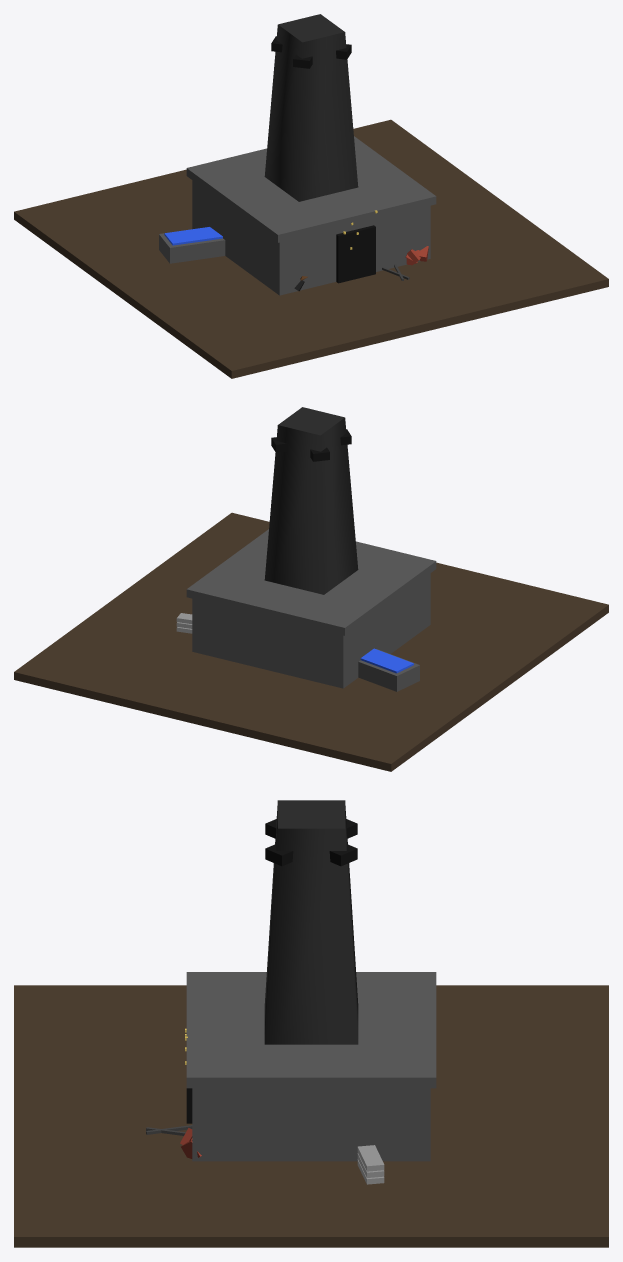
The model's file is iron_smelter.glb.
3 renders of one model, top to bottom at view 1: azimuth 30°, elevation 25°; view 2: azimuth 150°, elevation 25°; view 3: azimuth 270°, elevation 25°, orthographic. The views are drawn at different scales.
Parts seen in each view (by area): view 1: Ground, Chimney, Roof, BuildingBase, FurnaceOpening, TroughBase, Water; view 2: Ground, Chimney, BuildingBase, Roof, TroughBase, Water; view 3: Ground, Roof, Chimney, BuildingBase, Vent1, Vent2.
Part boxes in pixels (<box>): Ground: <box>14,119,608,378</box>; Chimney: <box>264,14,358,201</box>; Roof: <box>186,136,436,242</box>; BuildingBase: <box>192,180,430,295</box>; FurnaceOpening: <box>336,225,375,283</box>; TroughBase: <box>159,233,225,263</box>; Water: <box>164,227,222,245</box>; Ground: <box>14,512,608,771</box>; Chimney: <box>264,407,358,594</box>; BuildingBase: <box>192,573,430,688</box>; Roof: <box>186,529,436,635</box>; TroughBase: <box>358,649,419,691</box>; Water: <box>360,648,413,673</box>; Ground: <box>14,985,608,1247</box>; Roof: <box>186,972,436,1088</box>; Chimney: <box>264,800,358,1044</box>; BuildingBase: <box>192,1088,430,1161</box>; Vent1: <box>265,819,357,866</box>; Vent2: <box>265,819,357,866</box>.
Bounding box in the file's own units: 10 × 5.7 × 10.
